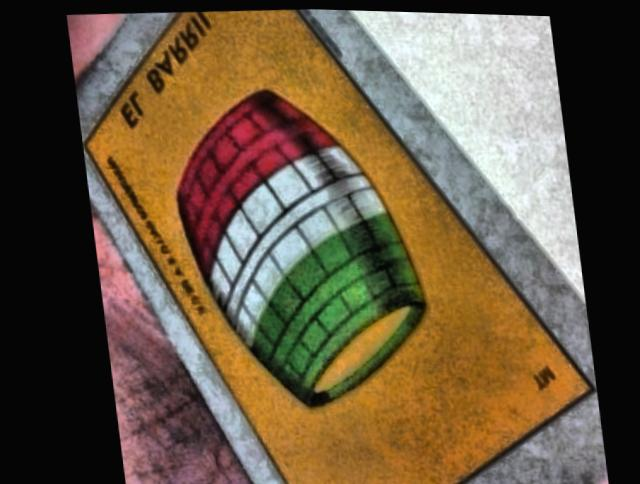El Barril: (83, 8, 588, 484)
